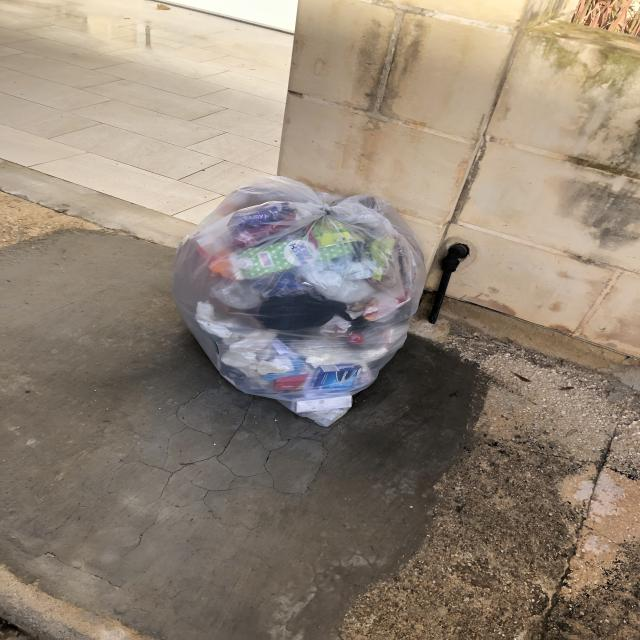Recycled Waste -Grey or Green Bag-: (158, 170, 429, 435)
